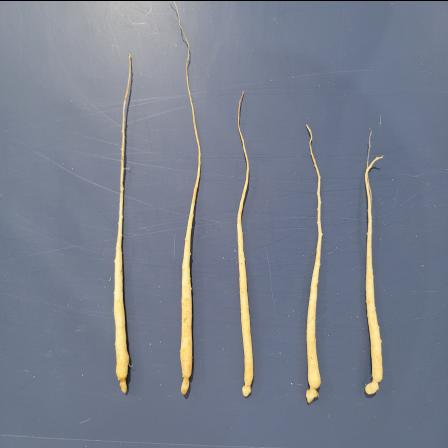Ginseng: (172, 0, 202, 400), (111, 52, 135, 398), (360, 126, 388, 408), (301, 122, 325, 410), (234, 89, 256, 400)
head: (364, 370, 383, 400), (304, 378, 322, 406), (116, 369, 130, 395), (180, 368, 192, 396), (241, 380, 253, 396)
